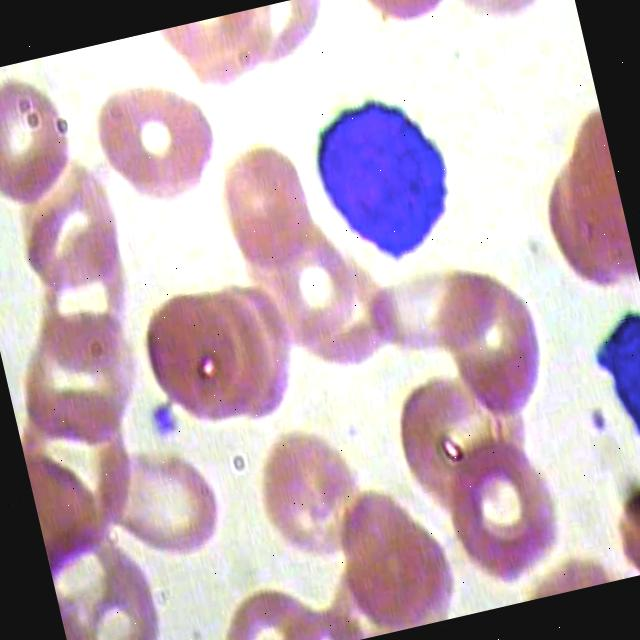Platelets: (140, 391, 187, 446)
RBC: (431, 419, 589, 598), (314, 460, 468, 640), (232, 414, 384, 574), (78, 62, 230, 221), (426, 259, 558, 433), (200, 128, 335, 294), (126, 278, 260, 444), (2, 160, 136, 310), (538, 105, 640, 298), (0, 68, 98, 220)
WBC: (297, 74, 478, 292), (586, 304, 640, 491)
